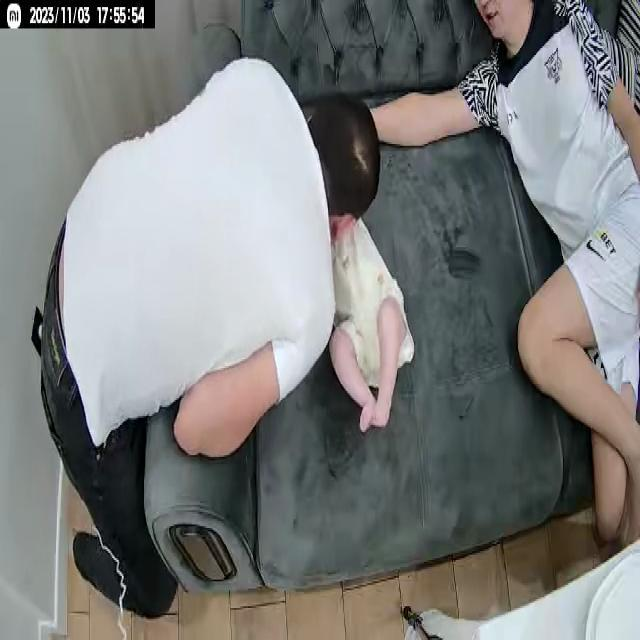baby: (324, 215, 416, 434)
